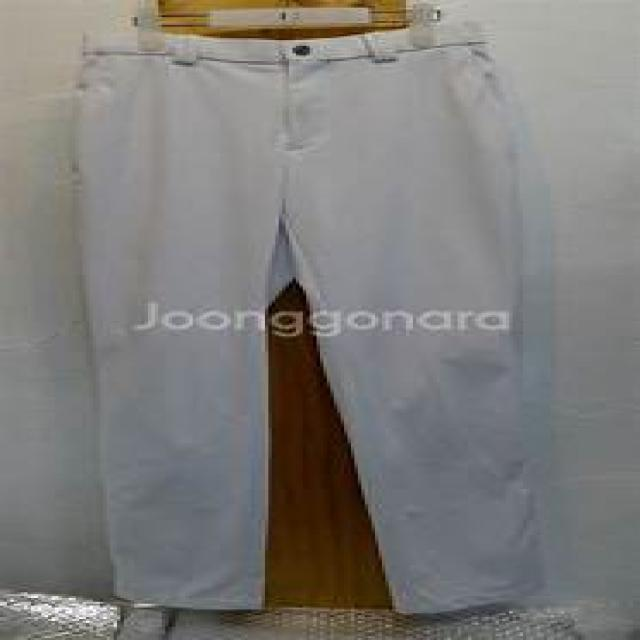long-pants: (73, 24, 543, 614)
